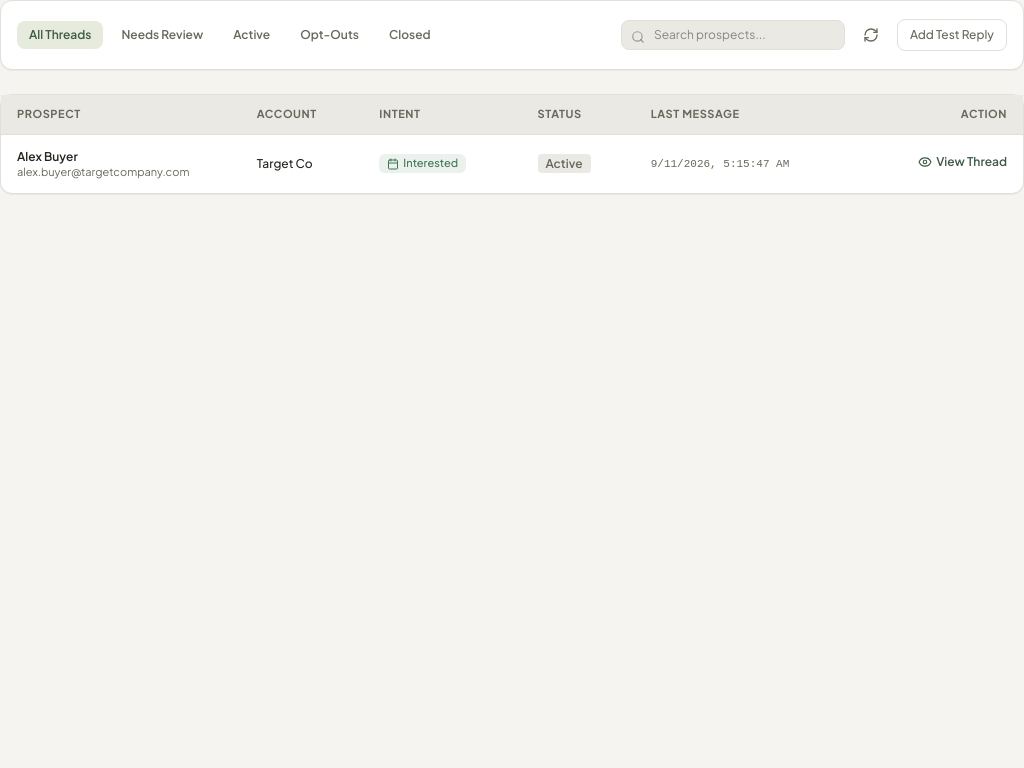
Test case: ConversationsPage - Add Test Reply › displays error message inside the modal when ingestion fails and keeps modal open
Click the button "Add Test Reply": (952, 35) [897,19,1007,51]
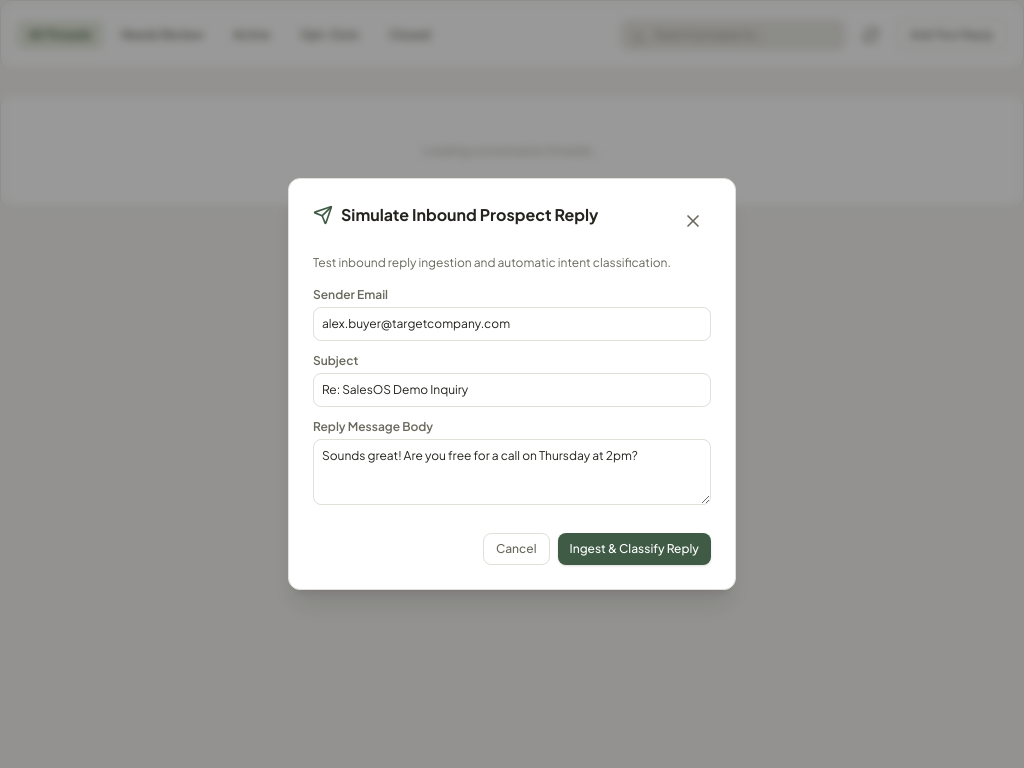
Click the button "Ingest & Classify Reply": (634, 549) [558,533,711,565]
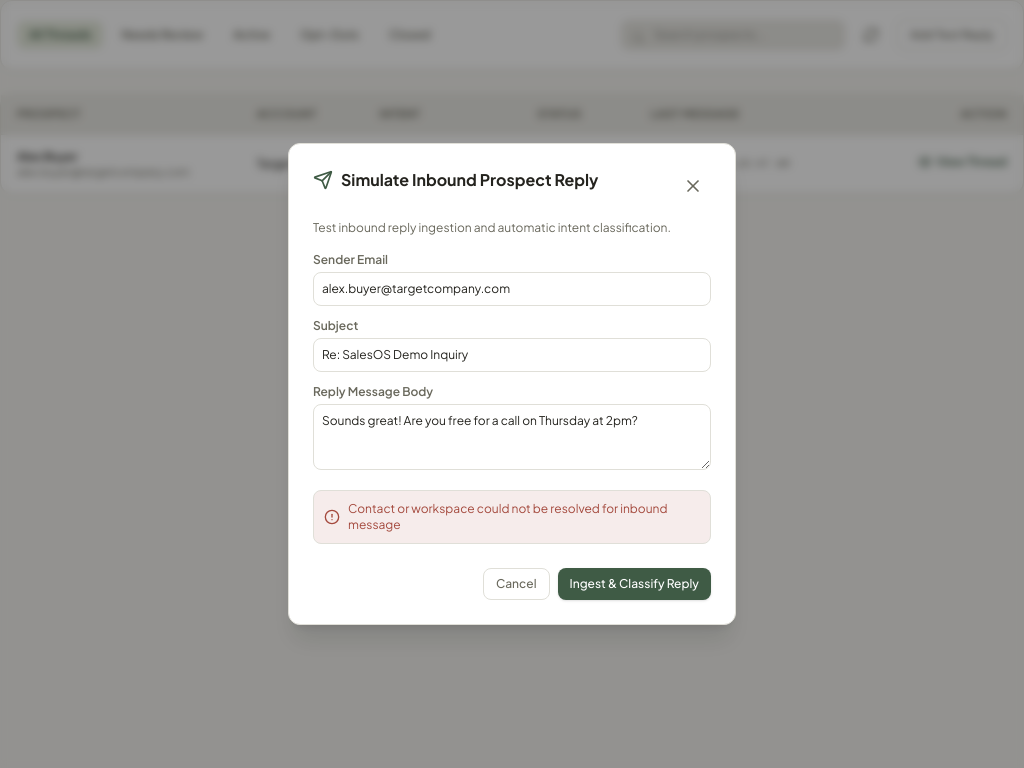
expect the text "Add Test Reply" is shown: met, box [910,27,994,43]
expect the button "Ingest & Classify Reply" is enabled: met, box [558,568,711,600]
expect the text "Contact or workspace could not be resolved for inbound message" is shown: met, box [348,501,700,533]
